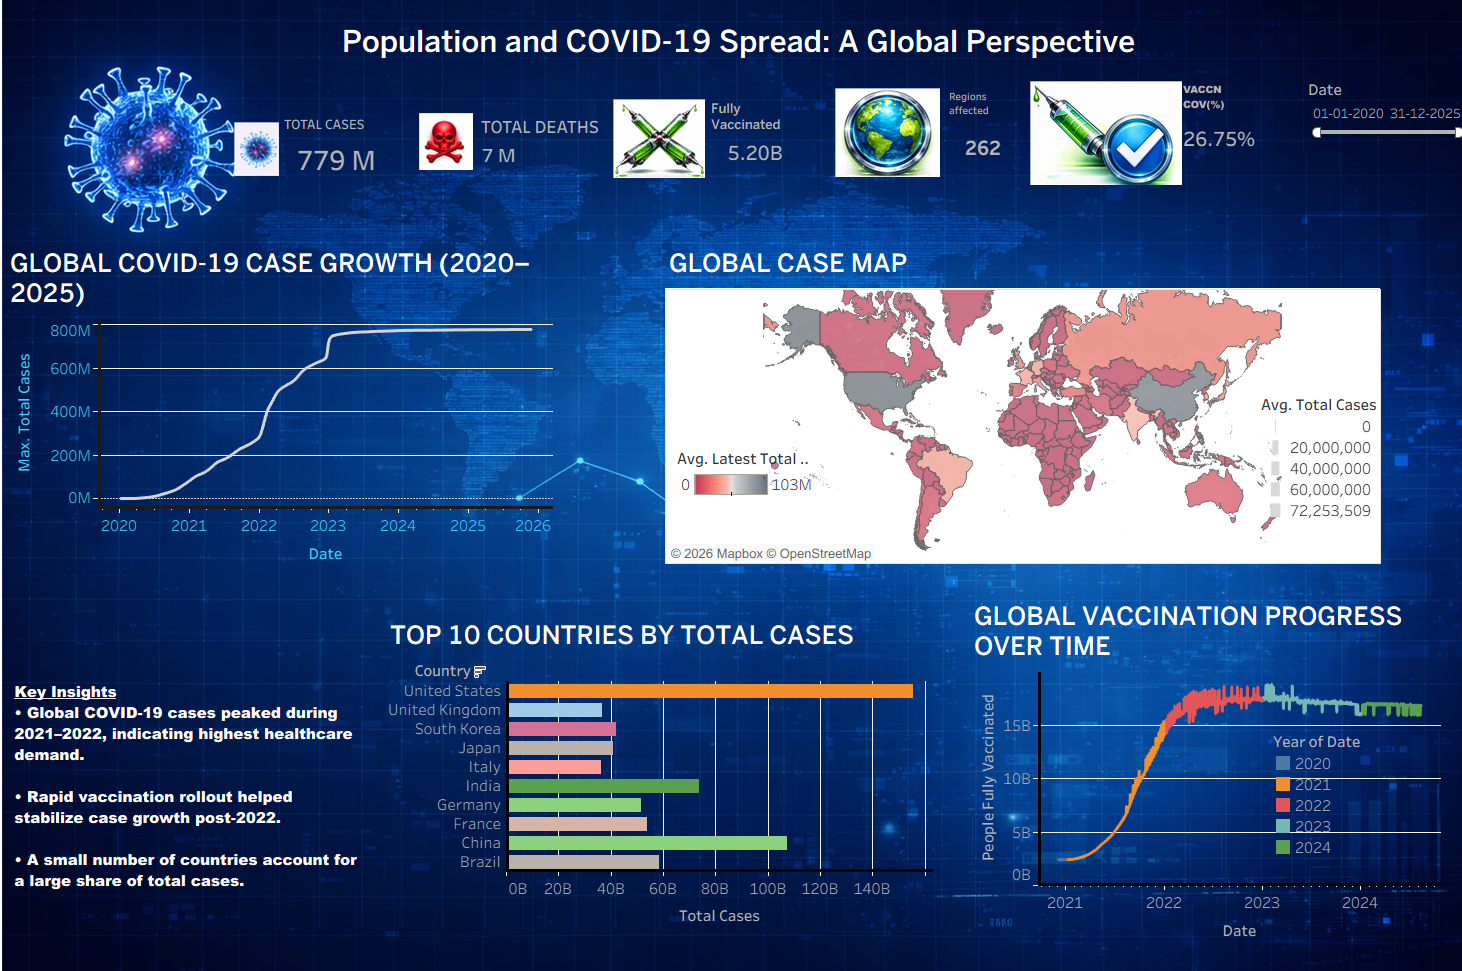

Layout of this report page (visuals, bound fields, positions):
{"tool":"tableau","page":{"name":"Dashboard 2","canvas":[1500,800],"ordinal":0},"visuals":[{"type":"title","box":[8,8,1484,44]},{"type":"worksheet","title":"Sheet 7","mark":"Automatic","box":[8,52,227,122]},{"type":"worksheet","title":"Sheet 6","mark":"Automatic","box":[235,52,318,122]},{"type":"worksheet","title":"Sheet 8","mark":"Automatic","box":[553,52,331,122]},{"type":"worksheet","title":"Sheet 9","mark":"Automatic","box":[905,53,182,122]},{"type":"worksheet","title":"Sheet 10","mark":"Automatic","box":[1111,58,188,115]},{"type":"filter","title":"Sheet 1","param":"[federated.0lew2vg0gq7y0p195kg0e1idhjxd].[none:date:qk]","box":[1319,58,160,116]},{"type":"worksheet","title":"Sheet 1","mark":"Line","rows":["total_cases"],"cols":["date"],"box":[8,174,697,269.4]},{"type":"worksheet","title":"Sheet 2","mark":"Multipolygon","box":[705,174,787,269.4]},{"type":"legend","title":"Sheet 2","param":"[federated.0lew2vg0gq7y0p195kg0e1idhjxd].[avg:total_cases:qk]","box":[1311,266,123,132]},{"type":"legend","title":"Sheet 2","param":"[federated.0lew2vg0gq7y0p195kg0e1idhjxd].[avg:Calculation_2338405215584256:qk]","box":[715,337,175,58]},{"type":"text","box":[8,443.4,260,348.6]},{"type":"worksheet","title":"Sheet 3","mark":"Bar","rows":["country"],"cols":["total_cases"],"box":[268,443.4,742,348.6]},{"type":"worksheet","title":"Sheet 4","mark":"Line","rows":["people_fully_vaccinated"],"cols":["date"],"box":[1010,443.4,482,348.6]},{"type":"legend","title":"Sheet 4","param":"[federated.0lew2vg0gq7y0p195kg0e1idhjxd].[yr:date:ok]","box":[1245,580,175,127]}]}

Visuals, with their boxes on the page's 1500x800 design canvas (x1, y1, x2, y2). These are canvas units, not pixel positions in the 1462x971 screenshot, which may show the page scaled, cropped or inside an application window:
title: [8,8,1492,52]
"Sheet 7" worksheet: [8,52,235,174]
"Sheet 6" worksheet: [235,52,553,174]
"Sheet 8" worksheet: [553,52,884,174]
"Sheet 9" worksheet: [905,53,1087,175]
"Sheet 10" worksheet: [1111,58,1299,173]
"Sheet 1" filter: [1319,58,1479,174]
"Sheet 1" worksheet (Line marks): [8,174,705,443]
"Sheet 2" worksheet (Multipolygon marks): [705,174,1492,443]
"Sheet 2" legend: [1311,266,1434,398]
"Sheet 2" legend: [715,337,890,395]
text: [8,443,268,792]
"Sheet 3" worksheet (Bar marks): [268,443,1010,792]
"Sheet 4" worksheet (Line marks): [1010,443,1492,792]
"Sheet 4" legend: [1245,580,1420,707]
